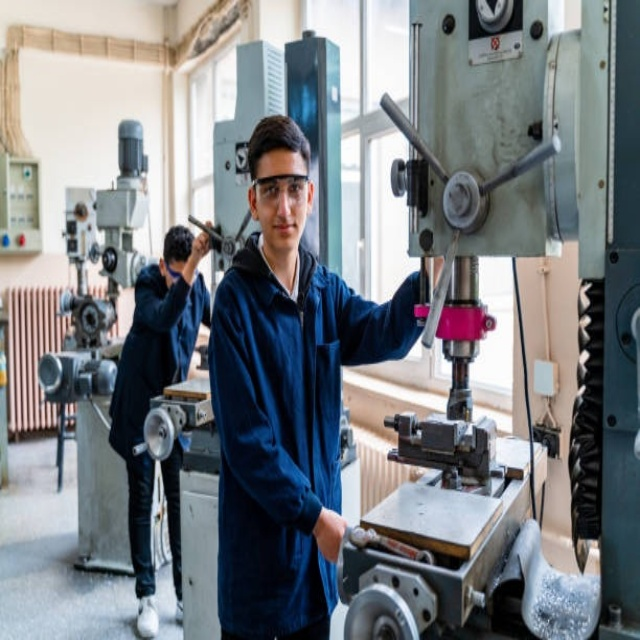Gafas: (253, 175, 310, 208), (166, 262, 183, 281)
Sin_guantes: (314, 500, 348, 558), (188, 215, 218, 265)
Sin_mascara: (271, 216, 301, 254)
